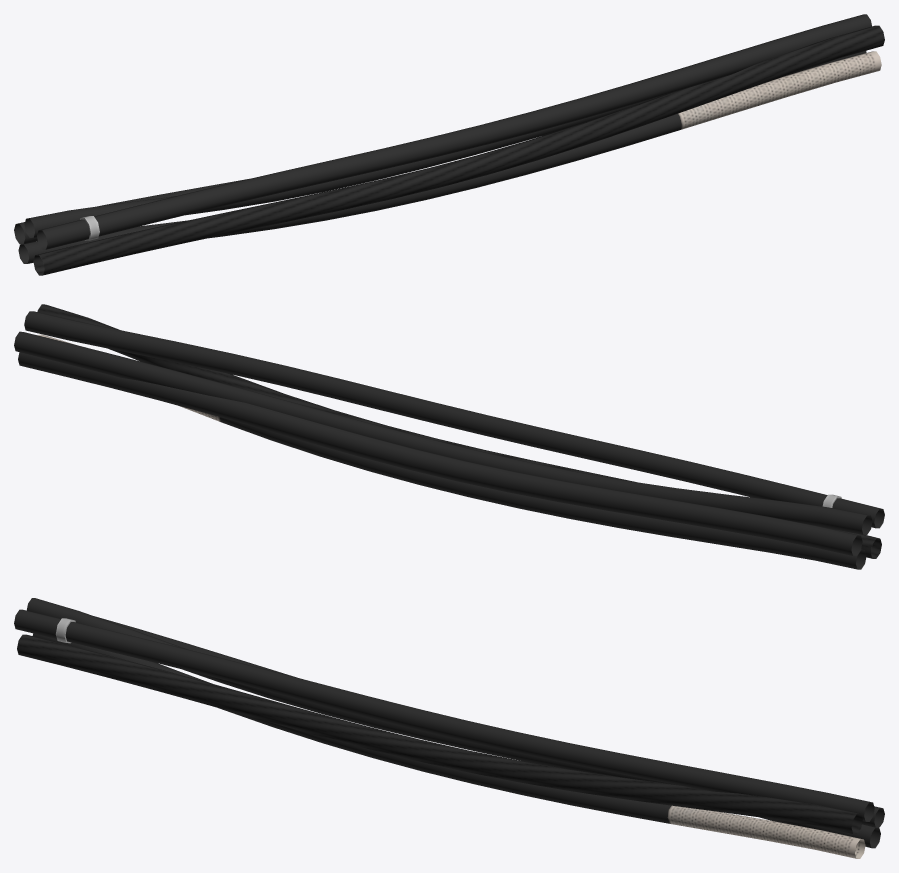
The model's file is ElectricalWires03_09.glb.
3 views of the same model, one above another, from view 1: azimuth 30°, elevation 25°; view 2: azimuth 150°, elevation 25°; view 3: azimuth 330°, elevation 25° (orthographic).
Visible parts, largest first — view 1: NurbsPath_009; view 2: NurbsPath_009; view 3: NurbsPath_009.
Boxes of the visible parts, x1,y1,x2,y2 form: NurbsPath_009: (14, 14, 884, 275); NurbsPath_009: (14, 304, 884, 569); NurbsPath_009: (14, 598, 884, 858).
Size of the model in its own units: 3.97 by 0.3518 by 0.2944.
1 material, 1 textured.
